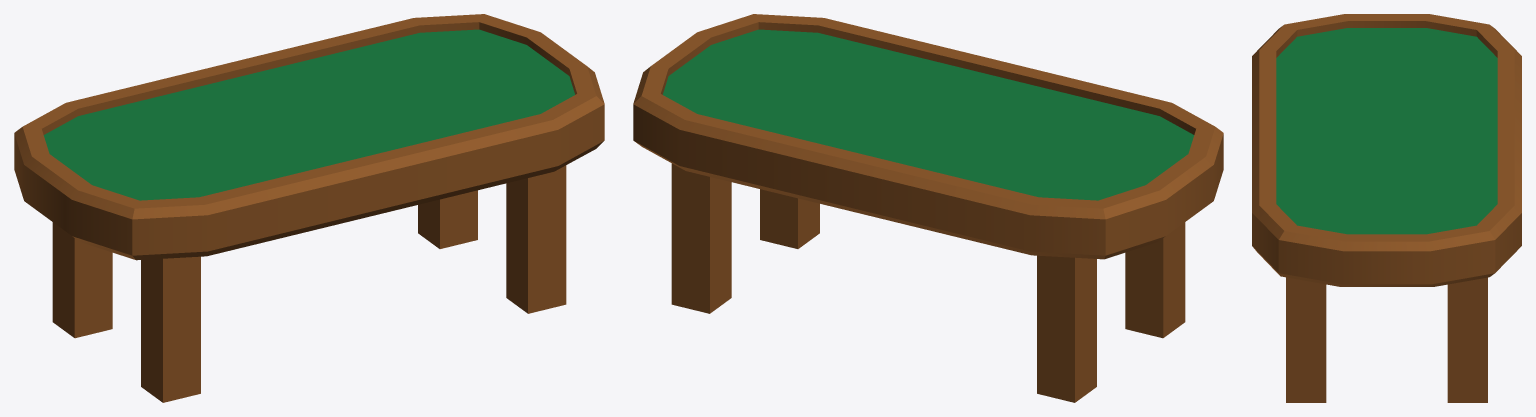
File: Game_table_1.fbx
3 renders of one model, left to right at view 1: azimuth 30°, elevation 25°; view 2: azimuth 150°, elevation 25°; view 3: azimuth 270°, elevation 25°, orthographic. The views are drawn at different scales.
Visible parts, largest first — view 1: Game_table_1; view 2: Game_table_1; view 3: Game_table_1.
Boxes of the visible parts, box(x1,y1,x2,y2) form: Game_table_1: box(14, 14, 604, 402); Game_table_1: box(633, 14, 1223, 402); Game_table_1: box(1252, 14, 1521, 402).
Bounding box in the file's own units: 290 × 107 × 142.
